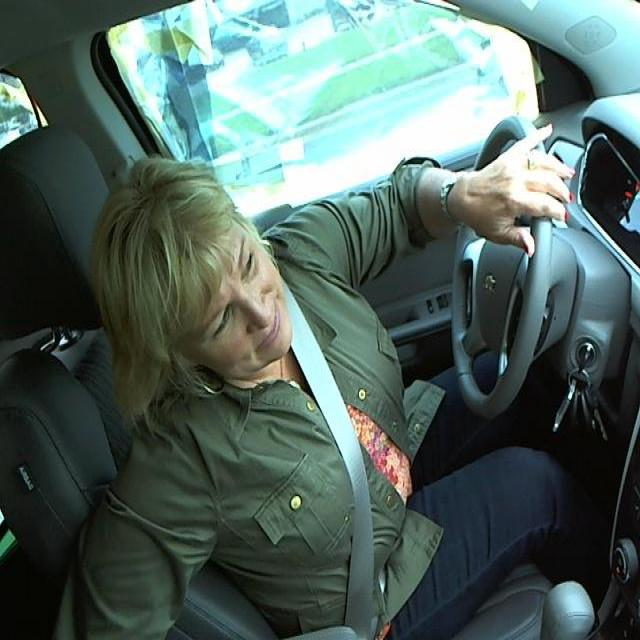seatbelt: (277, 319, 417, 625)
